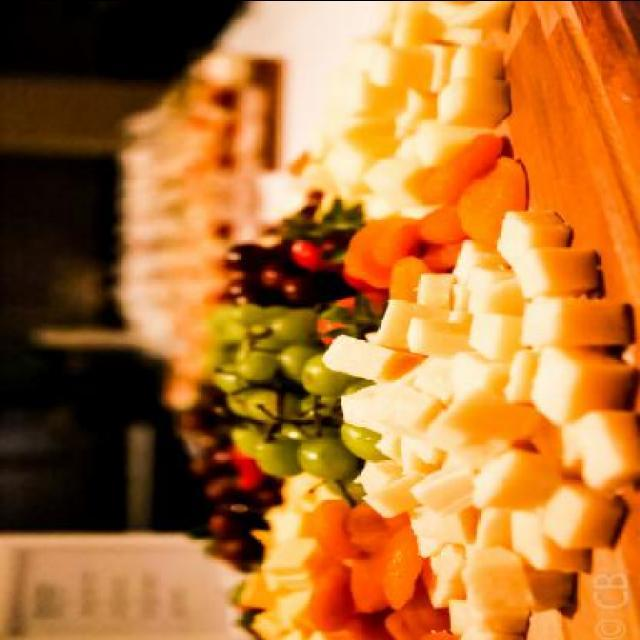Cheese: (316, 206, 640, 640), (316, 2, 512, 220), (328, 330, 408, 376)
